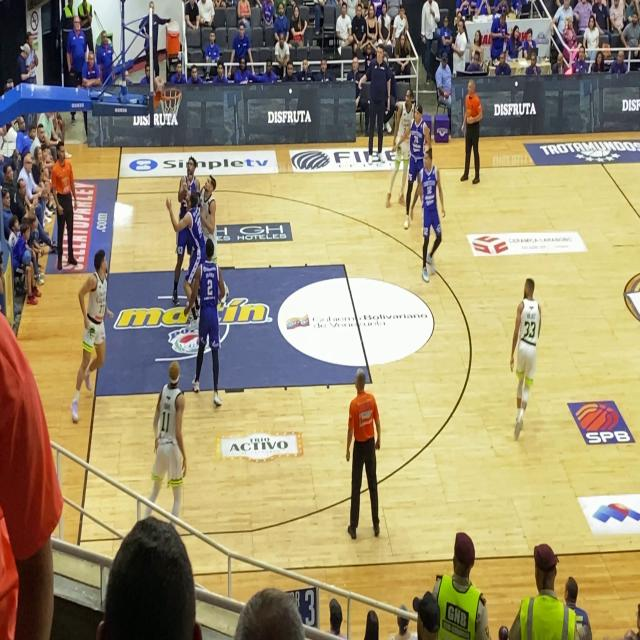Ball: (148, 70, 170, 99)
referee: (328, 350, 389, 545), (41, 123, 85, 281), (450, 67, 492, 194)
team1: (142, 345, 189, 521), (68, 245, 108, 438), (503, 261, 542, 446), (388, 83, 415, 213)
team2: (193, 234, 225, 411), (412, 148, 445, 295), (403, 100, 425, 232), (171, 193, 204, 273), (180, 153, 199, 192)
ubasket: (156, 86, 182, 122)
